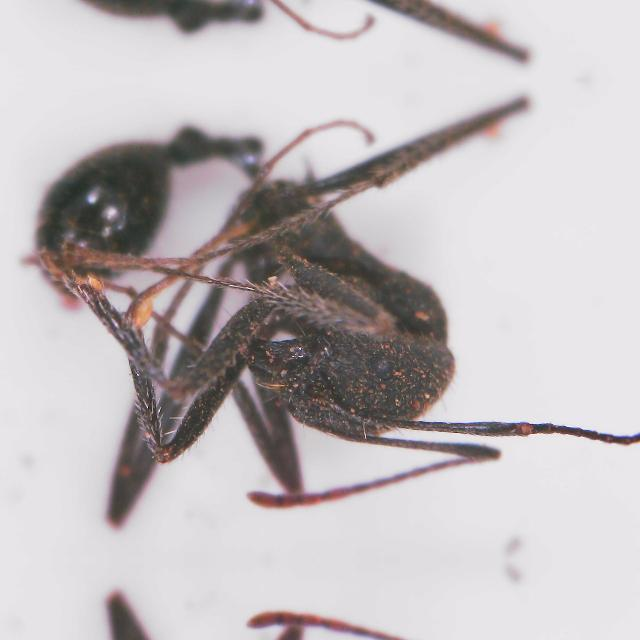Apheanogaster: (2, 114, 572, 544)
